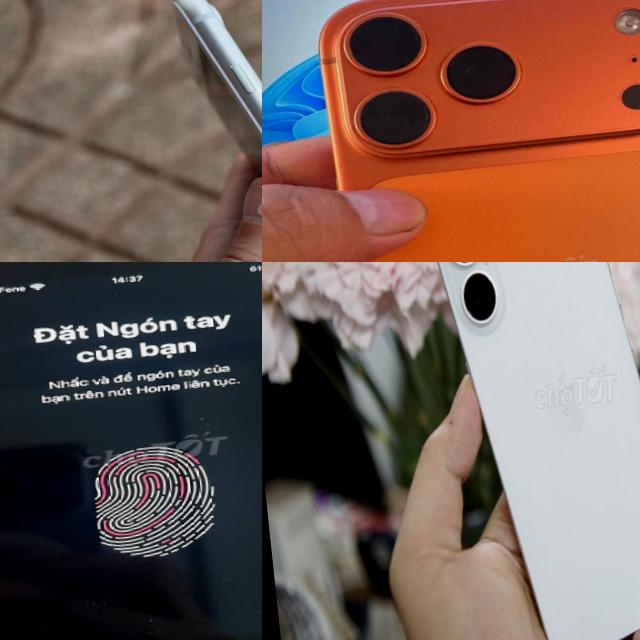gen_16: (415, 262, 640, 640)
gen_17: (301, 0, 640, 262)
gen_7_8: (0, 262, 262, 640), (144, 0, 262, 262)
